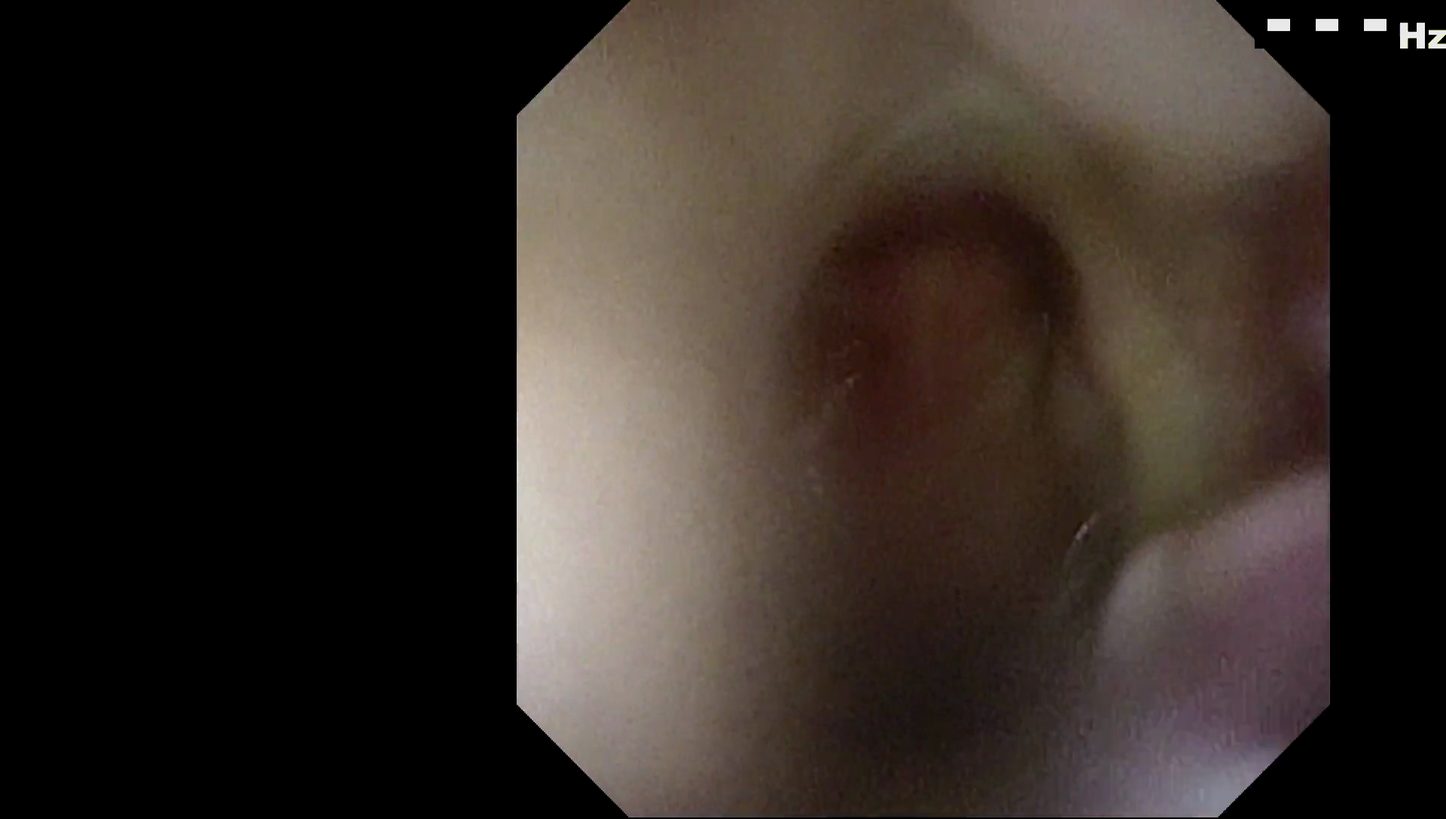close_wall: (526, 126, 848, 695)
next: (791, 543, 1078, 799), (940, 181, 1086, 360)
